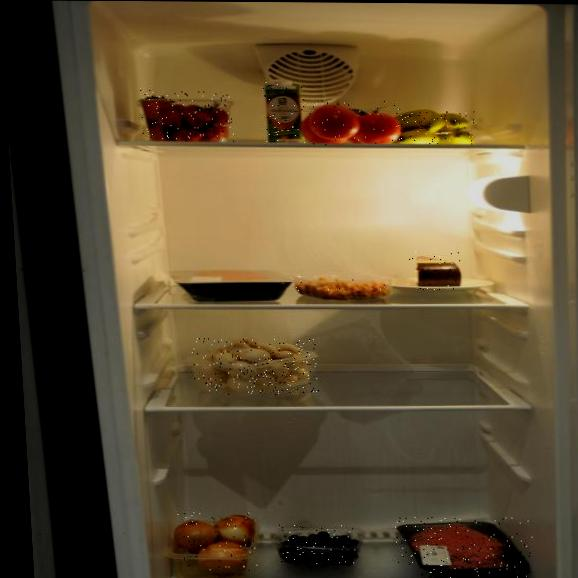banana: (394, 110, 476, 145)
blueberries: (279, 525, 360, 565)
cheese: (409, 252, 464, 290)
ground_beef: (394, 517, 536, 578)
heavy_cream: (263, 79, 306, 144)
mushrooms: (191, 338, 319, 395)
onion: (170, 512, 258, 577)
shrimp: (294, 275, 391, 299)
strawberries: (140, 90, 234, 142)
tomato: (298, 100, 403, 146)
